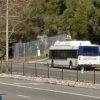Bus: (44, 37, 96, 70)
